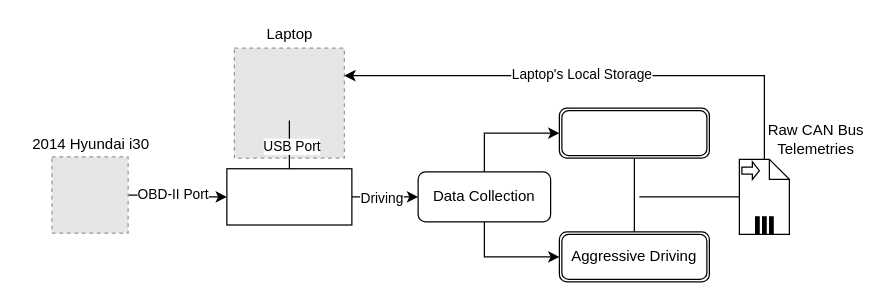
Image size: 891x304. Some labels were removed from this diagram. Grey dashed boxes stand in for pictures. The shapes that lost their labels are listed below. From the top down, each one's centre as x and y in pixels, then its label:
(633,132): Passive Driving
(289,196): Arduino Uno + CAN Bus Shield
